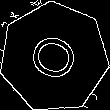O_E: (23, 27, 86, 87)
